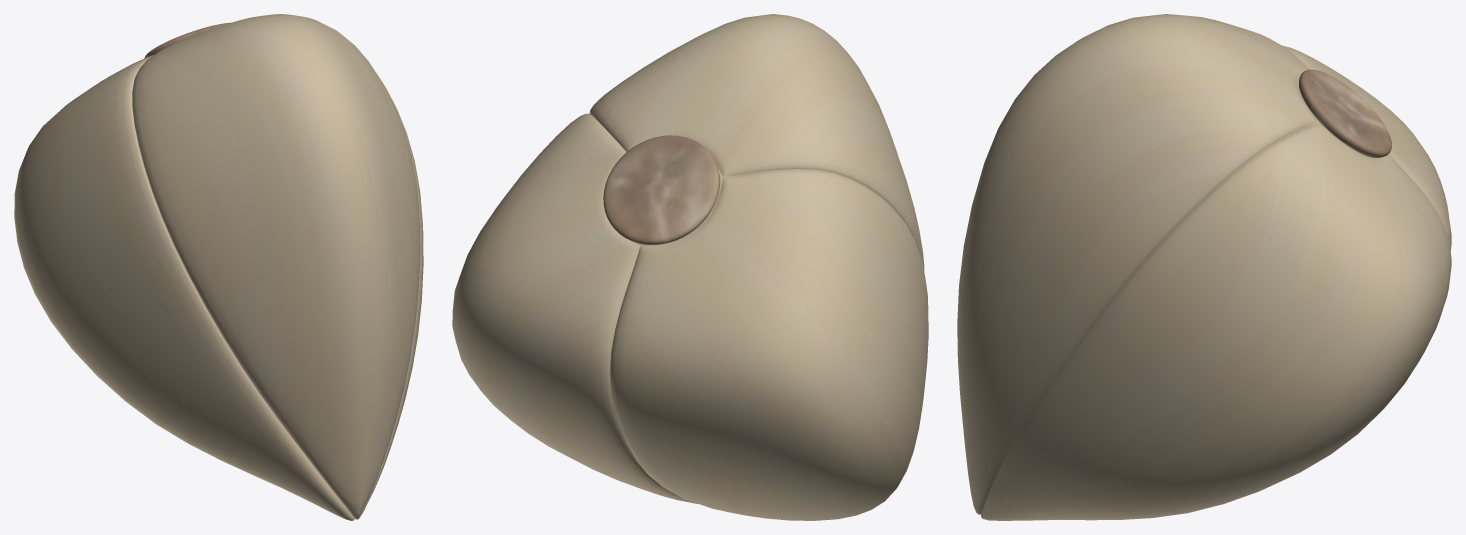
Rendered from GrainBuckwheat029.obj.
The picture shows the model from 3 angles, left to right: view 1: azimuth 30°, elevation 25°; view 2: azimuth 150°, elevation 25°; view 3: azimuth 270°, elevation 25°; orthographic projection. The views are drawn at different scales.
Visible parts, largest first — view 1: GrainBuckwheat029; view 2: GrainBuckwheat029; view 3: GrainBuckwheat029.
Part boxes in pixels (x1,y1,x2,y2): GrainBuckwheat029: (14,14,423,520); GrainBuckwheat029: (452,14,928,520); GrainBuckwheat029: (957,14,1451,520).
Bounding box in the file's own units: 0.0252 × 0.03 × 0.0271.
1 material, 1 textured.
